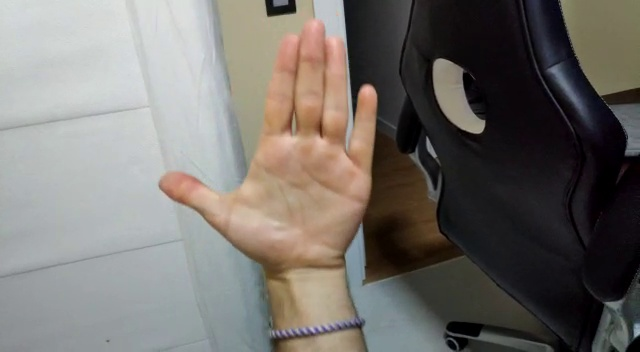Palm: (157, 19, 381, 295)
